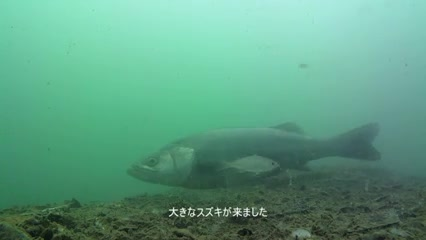suzuki: (123, 118, 392, 187)
